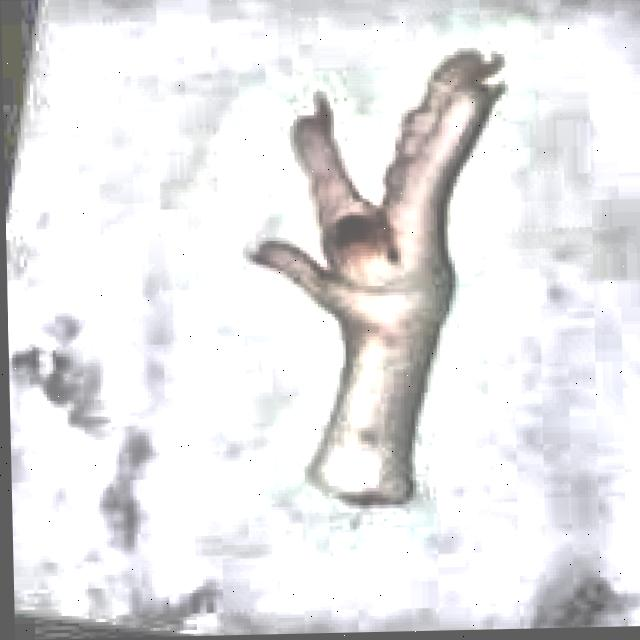Bumble foot: (240, 52, 518, 521)
